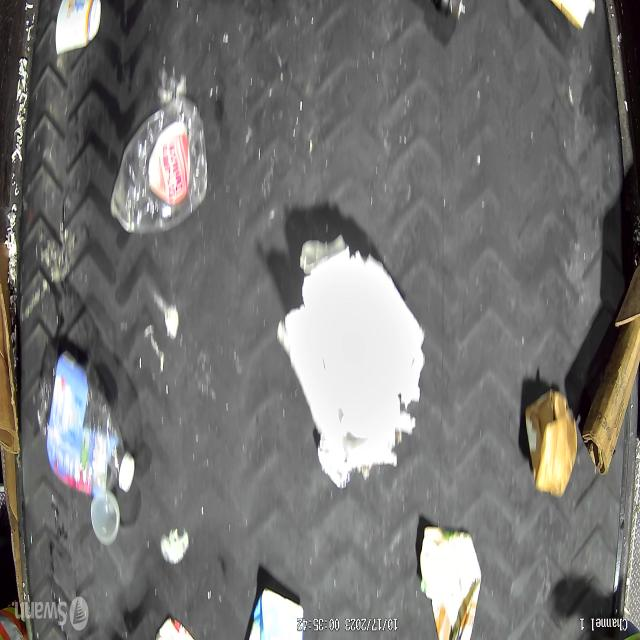plastic_bottle: (38, 353, 136, 500)
